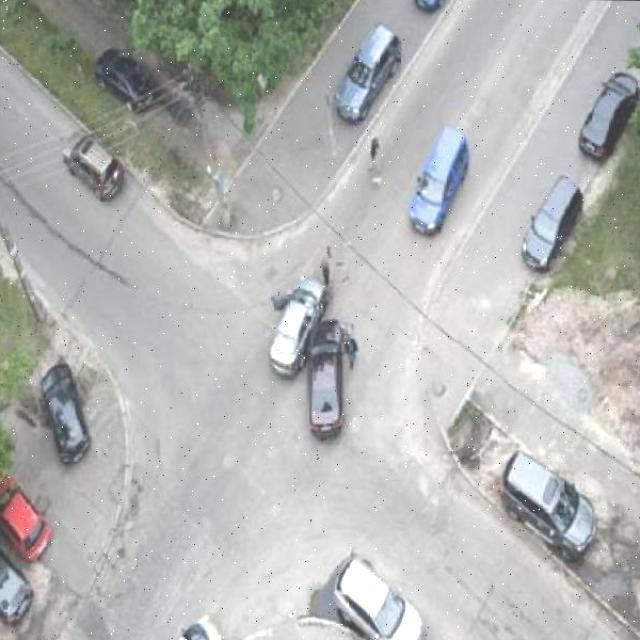accident: (260, 271, 358, 436)
